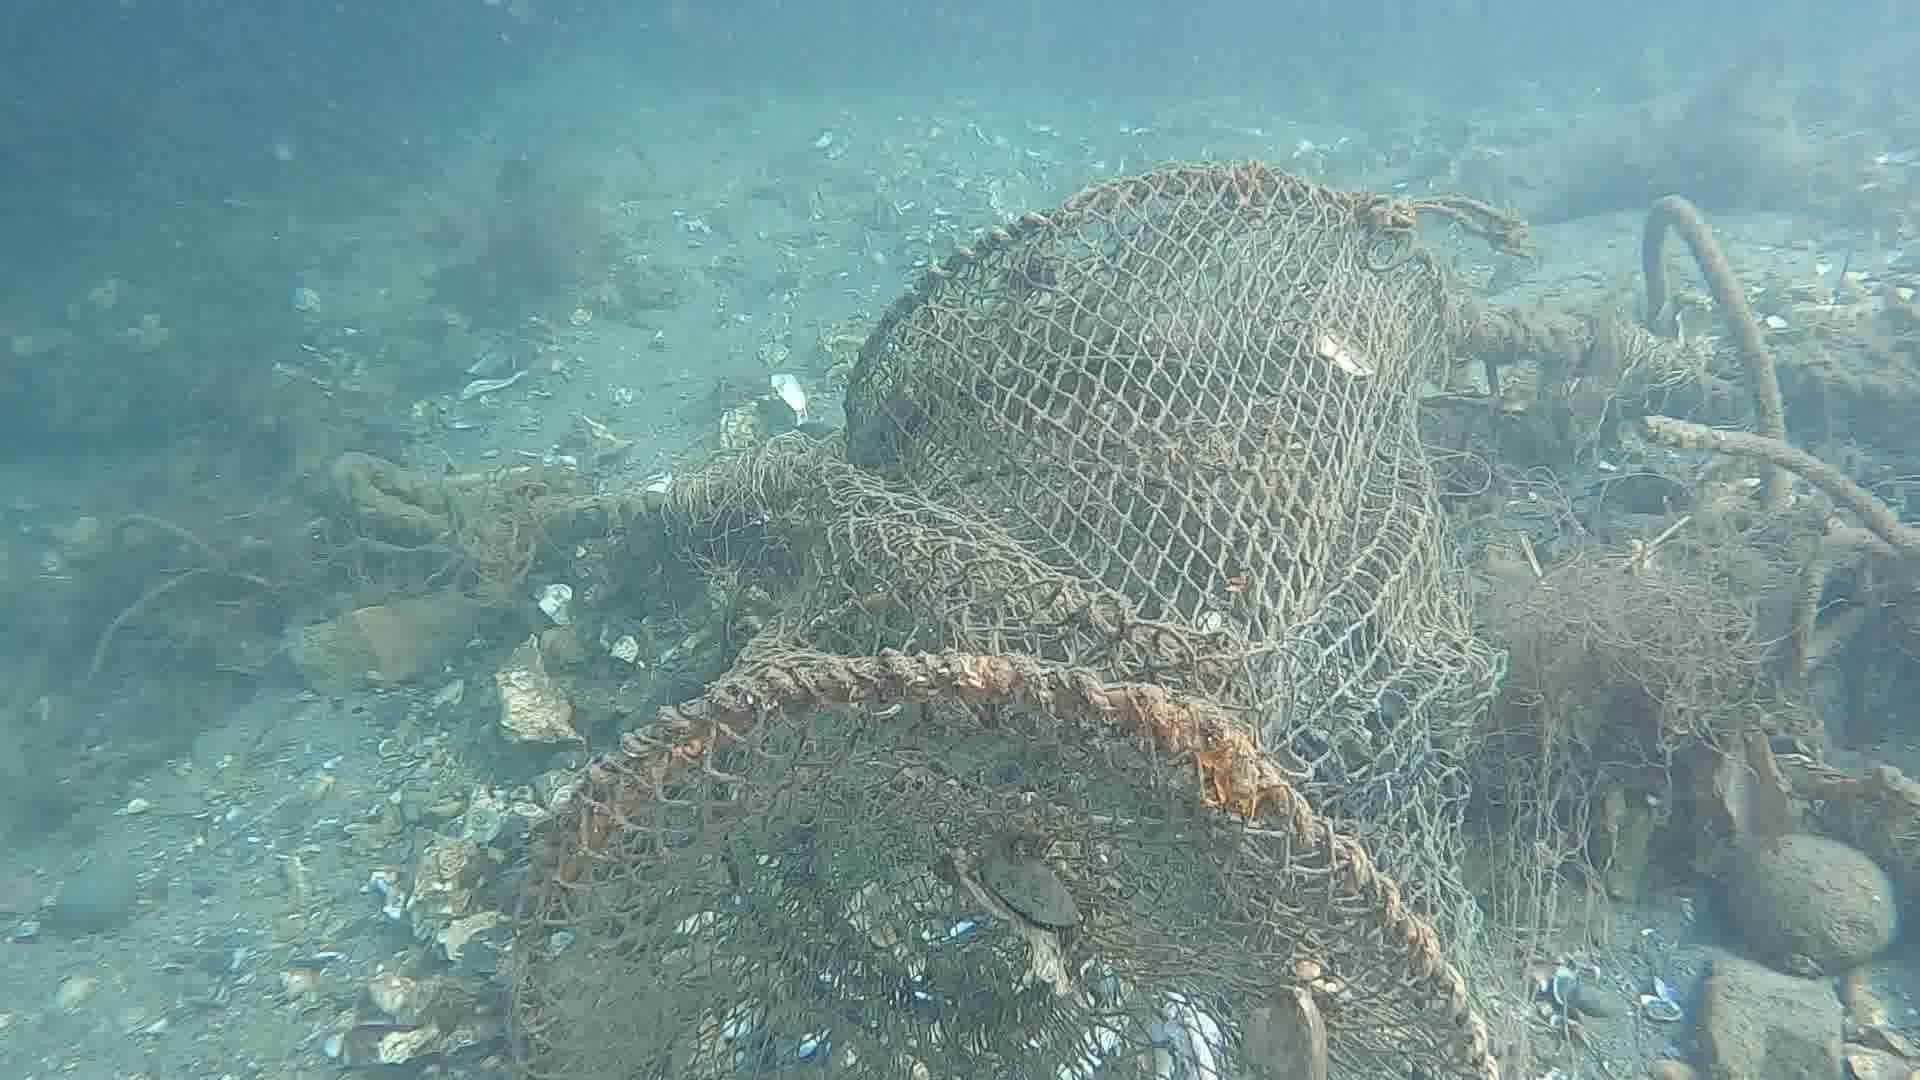rope: (324, 448, 669, 549)
spring fish trap: (487, 160, 1511, 1080)
